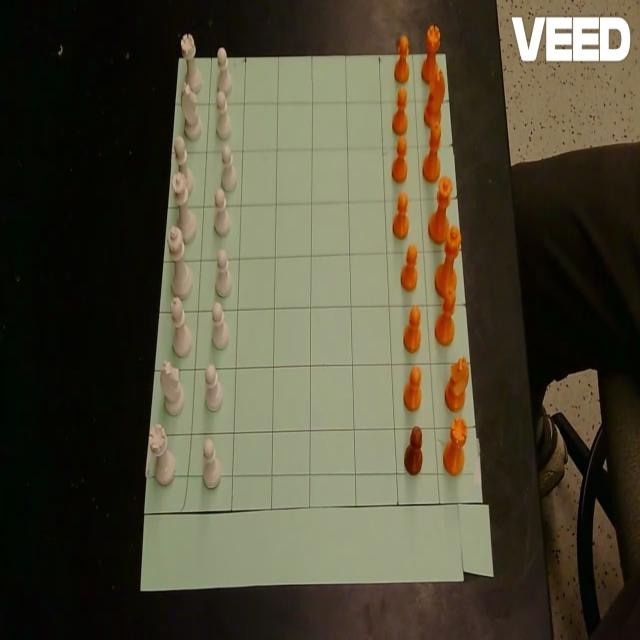orange_bishop: (422, 119, 442, 182), (434, 289, 456, 345)
orange_king: (434, 225, 460, 299)
orange_knight: (445, 355, 469, 412), (424, 84, 442, 132), (427, 59, 445, 106), (437, 176, 453, 207), (409, 306, 421, 327), (406, 244, 418, 264), (410, 366, 421, 386), (397, 87, 407, 107), (458, 357, 467, 372)
orange_pawn: (404, 425, 423, 474), (404, 363, 422, 410), (403, 305, 421, 352), (401, 243, 418, 290), (391, 136, 408, 183), (393, 191, 409, 238), (392, 89, 408, 135), (394, 34, 409, 83)
orange_queen: (428, 176, 452, 244)
orange_rook: (442, 417, 467, 475), (421, 23, 440, 85)
white_bishop: (170, 299, 192, 359), (174, 135, 192, 192)
white_king: (168, 228, 192, 296)
white_knight: (161, 360, 184, 416), (181, 81, 201, 139)
white_pawn: (202, 437, 221, 490), (211, 301, 229, 352), (215, 246, 232, 298), (205, 364, 223, 413), (214, 188, 231, 238), (216, 46, 232, 98), (221, 140, 237, 191), (216, 90, 232, 140)
white_queen: (173, 176, 196, 242)
white_rook: (149, 423, 175, 486), (181, 32, 201, 94)
